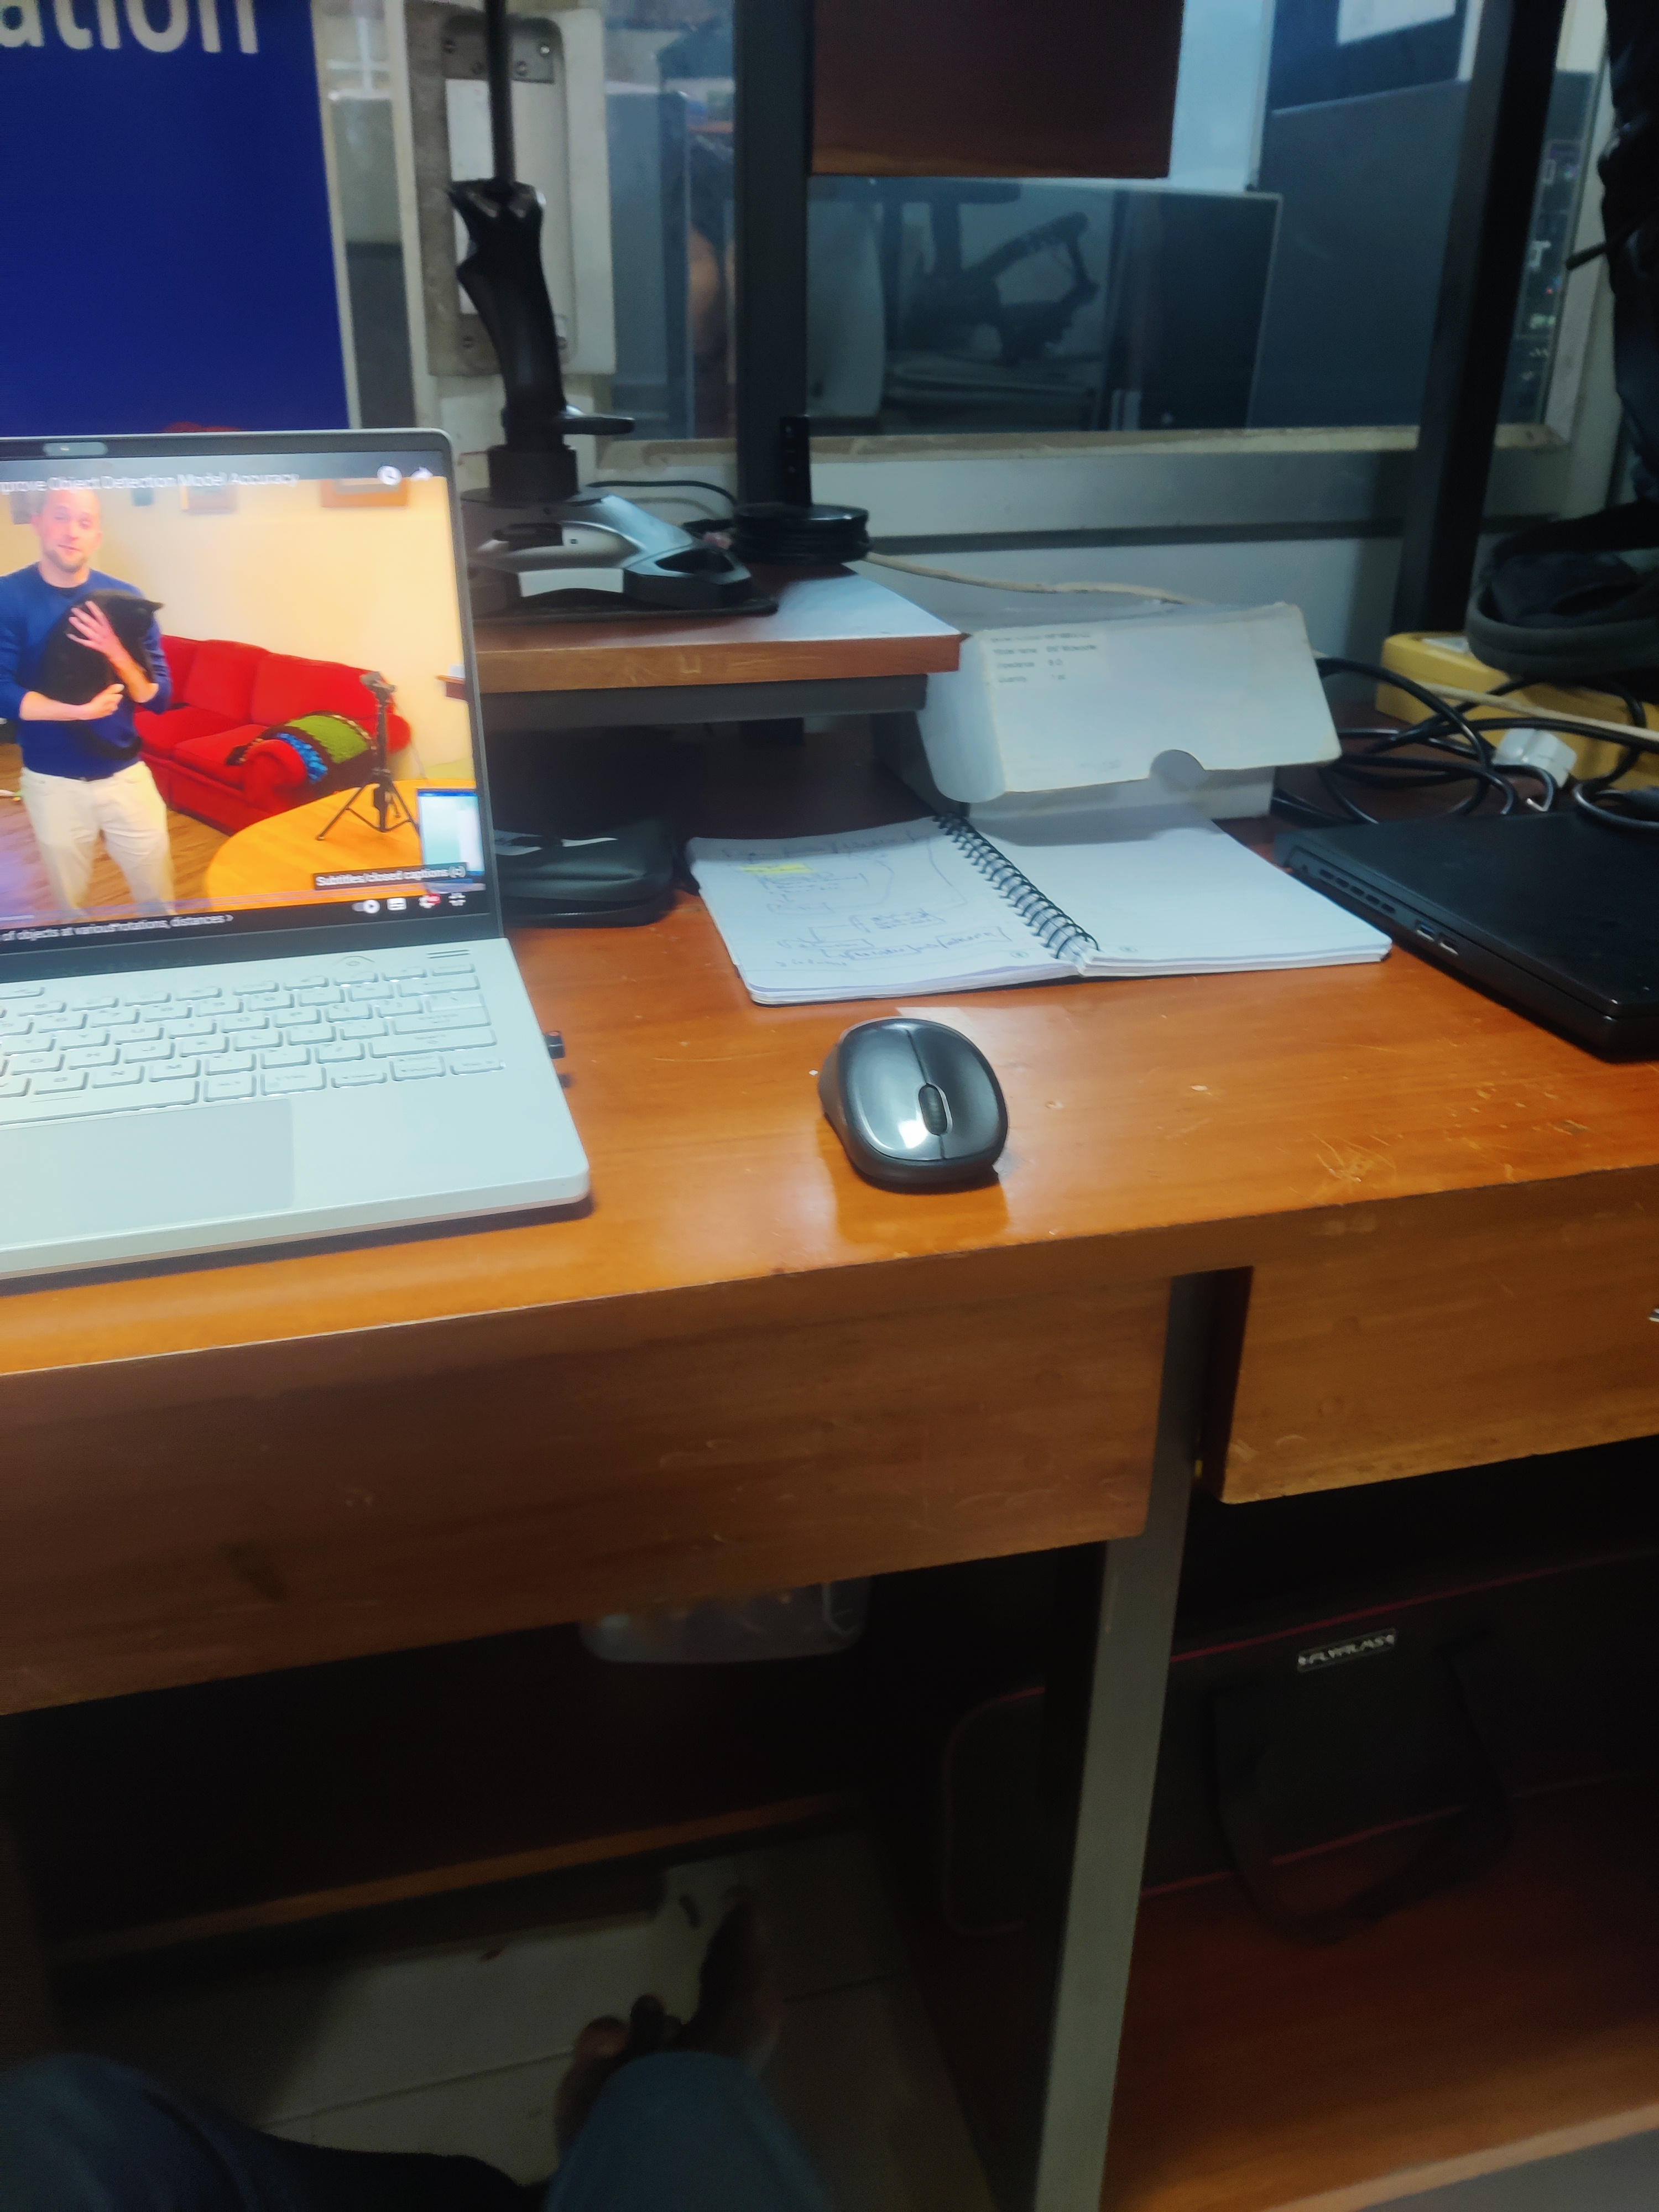logitechMouse: (812, 1012, 1016, 1197)
